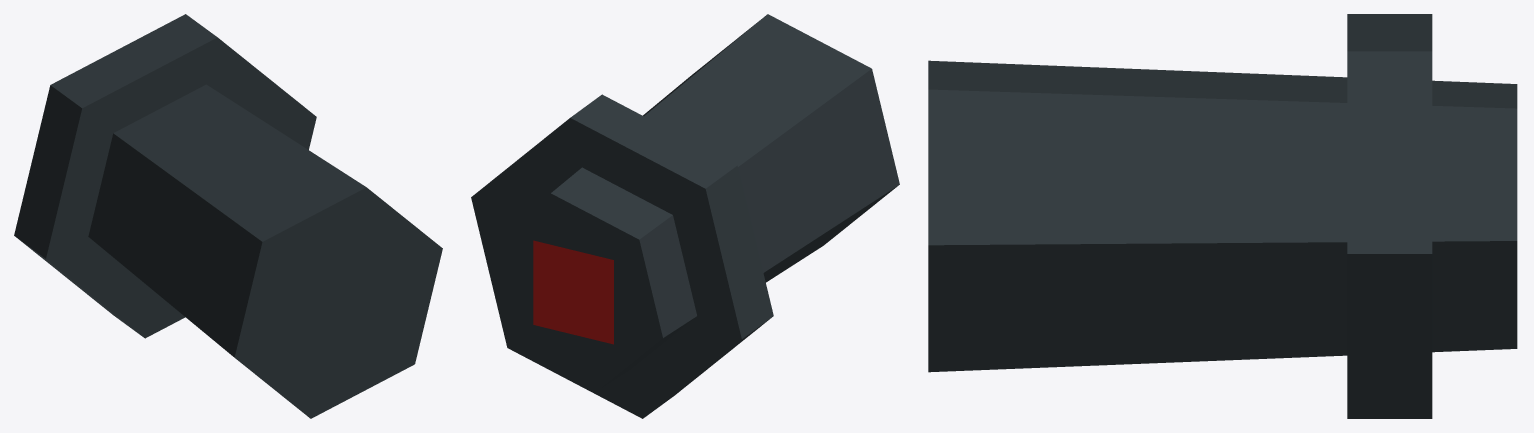
3 views of the same model, side by side, from view 1: azimuth 30°, elevation 25°; view 2: azimuth 150°, elevation 25°; view 3: azimuth 270°, elevation 25° (orthographic). The views are drawn at different scales.
Parts seen in each view (by area): view 1: mount; view 2: mount; view 3: mount.
Part boxes in pixels (<box>): mount: <box>14,14,442,418</box>; mount: <box>471,14,899,418</box>; mount: <box>928,14,1517,418</box>.
Size of the model in its own units: 4.9 by 4.9 by 6.96.
